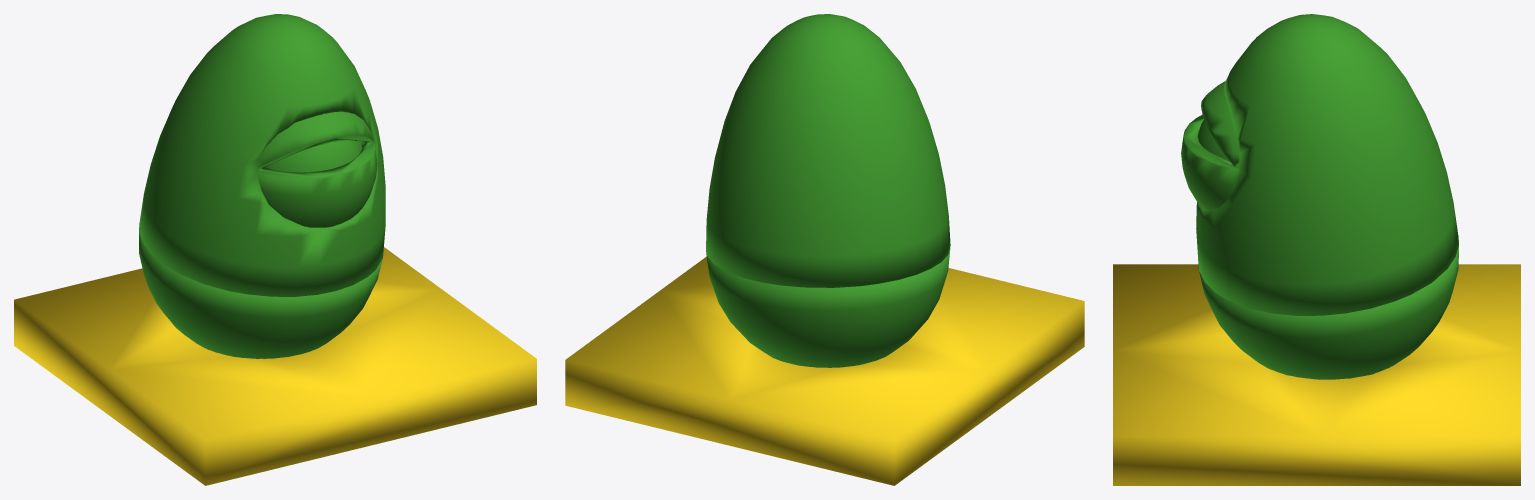
Rendered from egg_4.glb.
The picture shows the model from 3 angles, left to right: view 1: azimuth 30°, elevation 25°; view 2: azimuth 150°, elevation 25°; view 3: azimuth 270°, elevation 25°; orthographic projection. The views are drawn at different scales.
Visible parts, largest first — view 1: figura, basetta; view 2: figura, basetta; view 3: figura, basetta.
Boxes of the visible parts, left/top/right/bottom form: figura: left=139, top=14, right=385, bottom=358; basetta: left=14, top=247, right=536, bottom=485; figura: left=706, top=14, right=950, bottom=367; basetta: left=565, top=256, right=1084, bottom=485; figura: left=1181, top=14, right=1458, bottom=379; basetta: left=1113, top=264, right=1520, bottom=485.
Bounding box in the file's own units: 0.015 × 0.0154 × 0.015.
